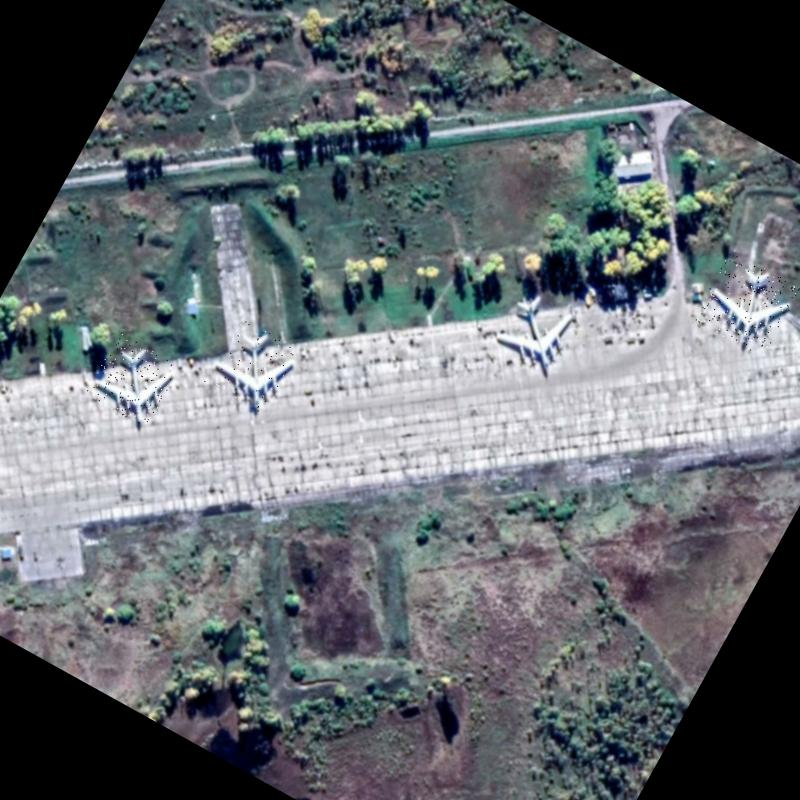A17: (692, 248, 800, 358), (204, 316, 300, 416), (84, 332, 180, 428), (491, 282, 580, 372)
